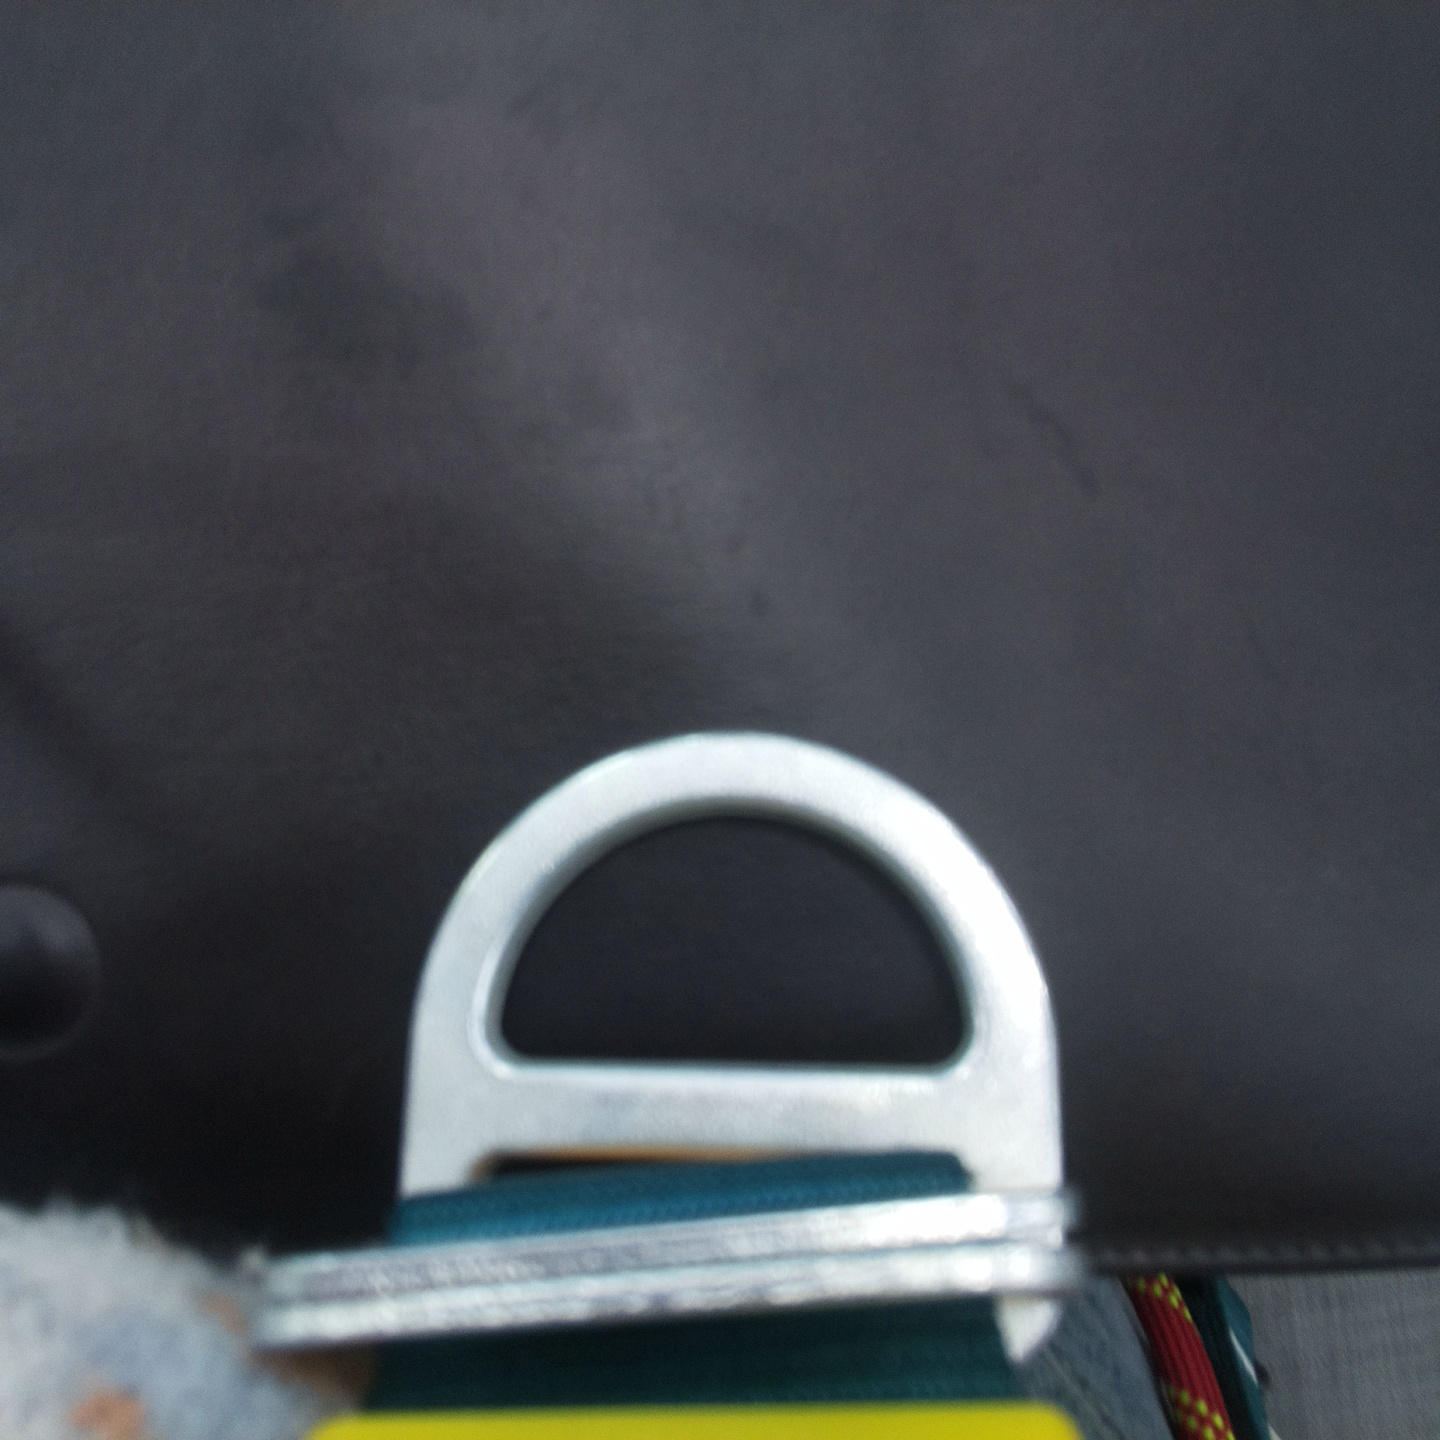UNSUCCESS: (336, 709, 1183, 1215)
